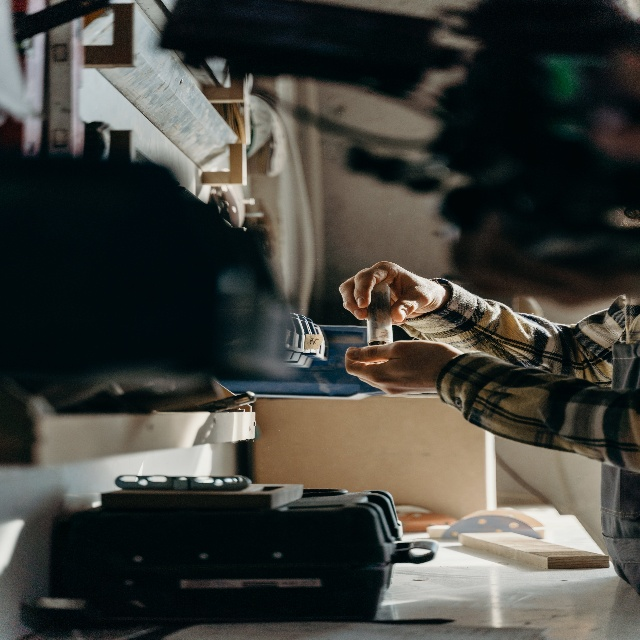Sin_guantes: (336, 259, 444, 326), (342, 339, 450, 402)
